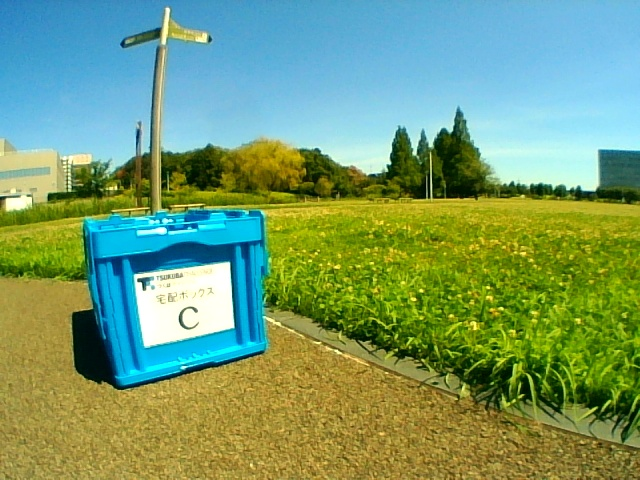blue_box: (108, 224, 262, 352)
tag_c: (160, 285, 212, 331)
